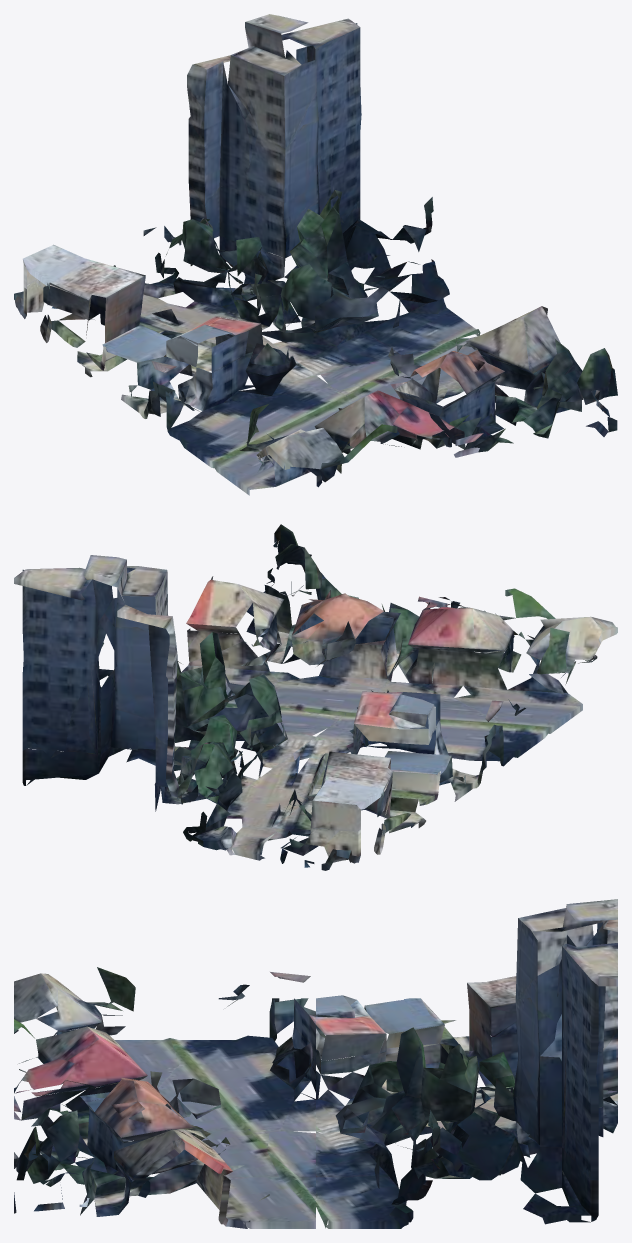
3 views of the same model, one above another, from view 1: azimuth 30°, elevation 25°; view 2: azimuth 150°, elevation 25°; view 3: azimuth 270°, elevation 25° (orthographic). The views are drawn at different scales.
Parts seen in each view (by area): view 1: 3043627270436153672_0; view 2: 3043627270436153672_0; view 3: 3043627270436153672_0.
Part boxes in pixels (box(x1,y1,x2,y2)): 3043627270436153672_0: box(14, 14, 617, 495); 3043627270436153672_0: box(14, 524, 617, 870); 3043627270436153672_0: box(14, 899, 617, 1228).
Bounding box in the file's own units: 54.63 × 38.83 × 76.52.
1 material, 1 textured.
